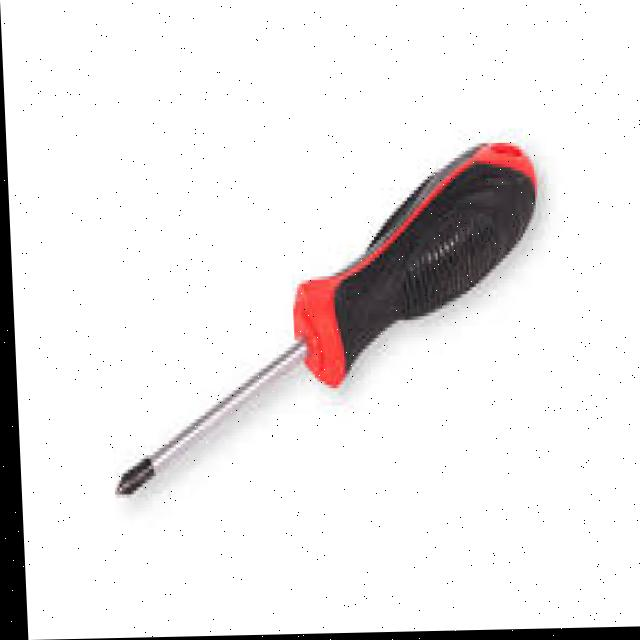Screwdriver: (112, 146, 531, 493)
